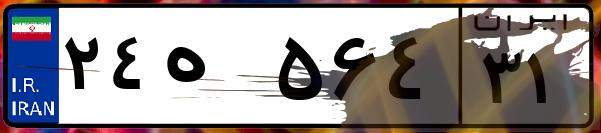1: (525, 38, 570, 115)
2: (57, 26, 110, 100)
3: (475, 38, 525, 113)
4: (385, 28, 445, 110), (110, 28, 158, 98)
5: (270, 28, 330, 110)
6: (330, 28, 385, 110)
ه: (158, 20, 270, 120)
